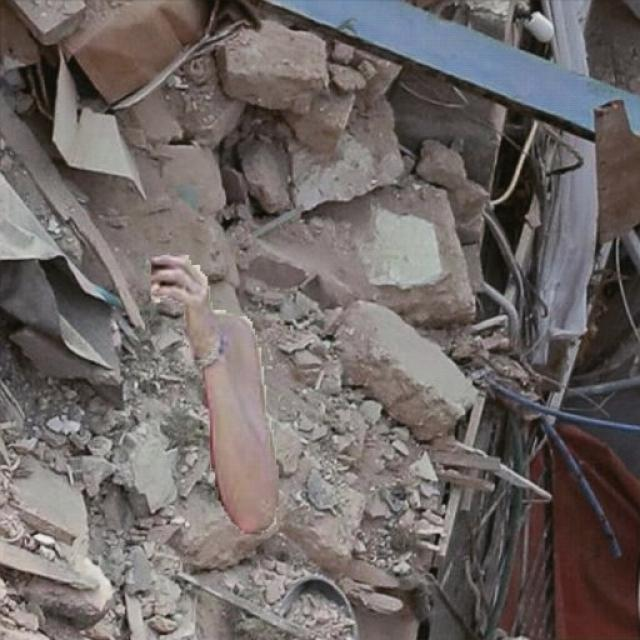Person in Rubble: (152, 252, 278, 532)
